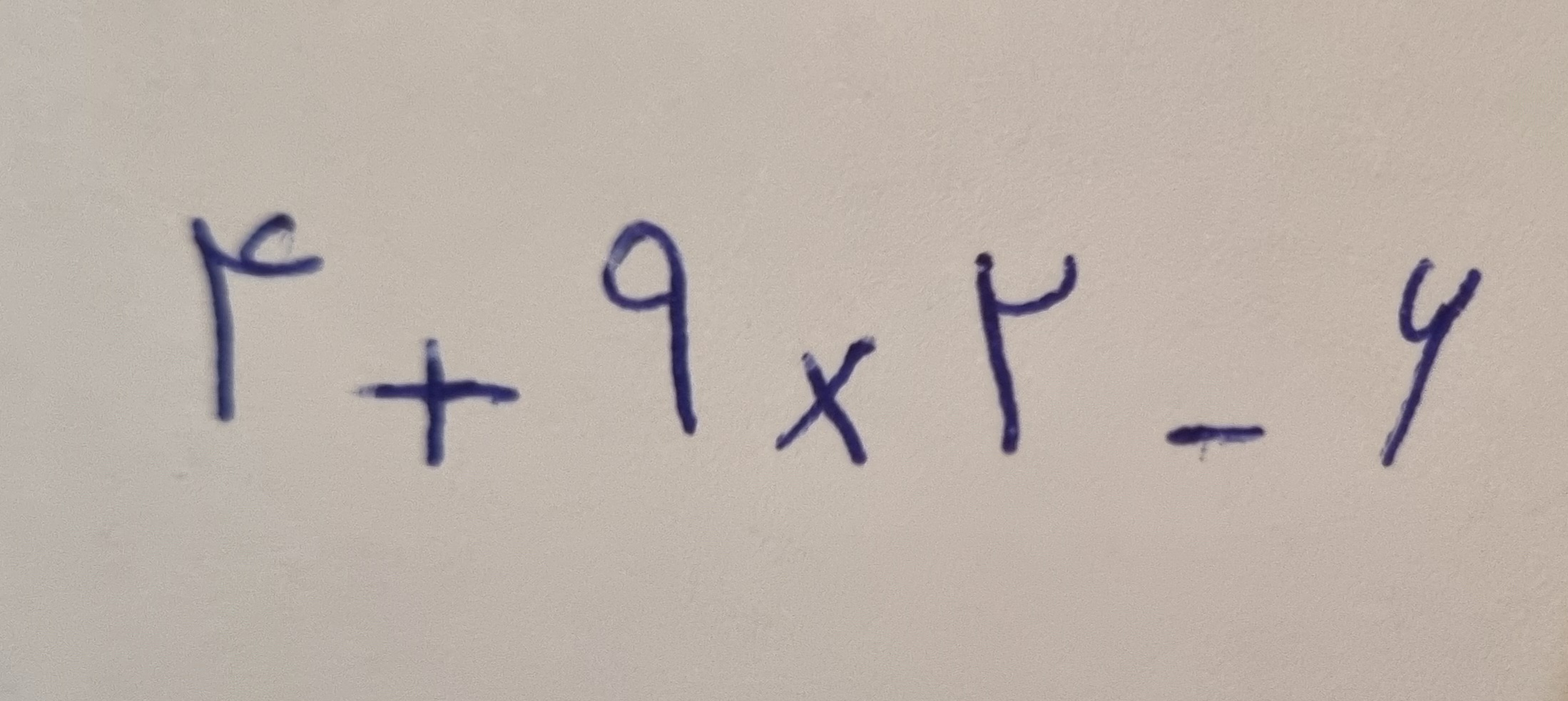character: (188, 211, 330, 425), (352, 337, 521, 467), (1379, 258, 1483, 467), (973, 251, 1079, 454), (601, 218, 699, 434), (774, 333, 874, 466), (1166, 422, 1261, 459)
